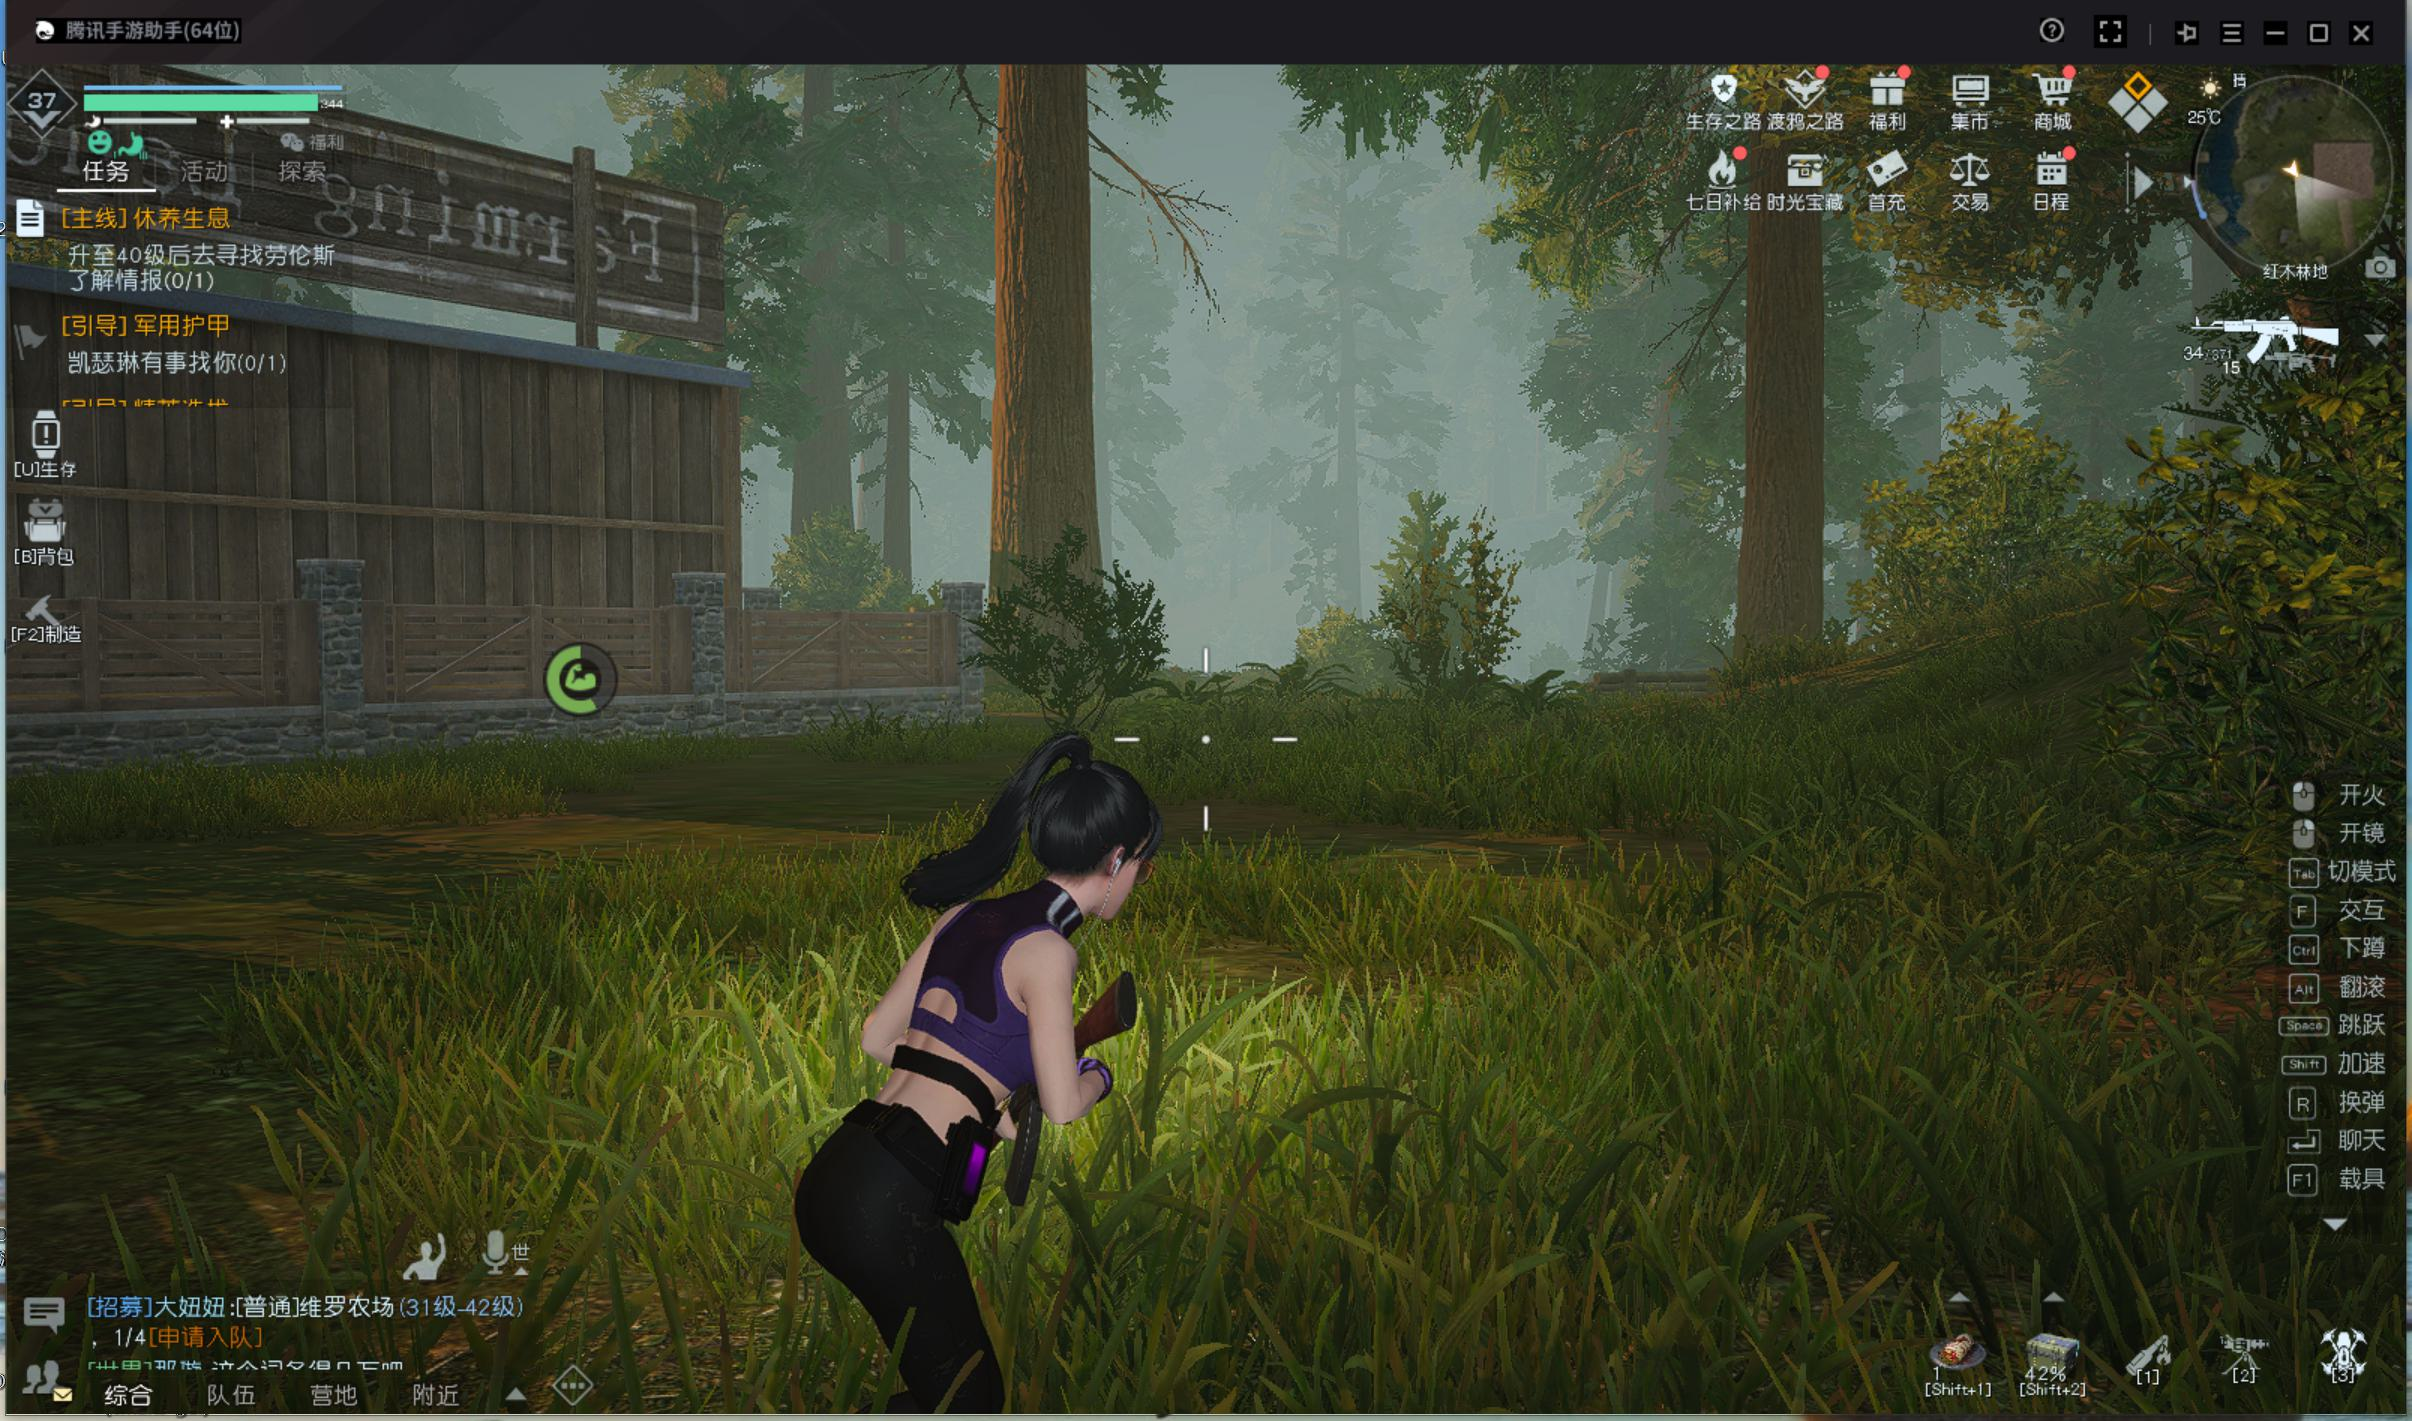tree: (968, 83, 1127, 683), (1722, 232, 1835, 668)
